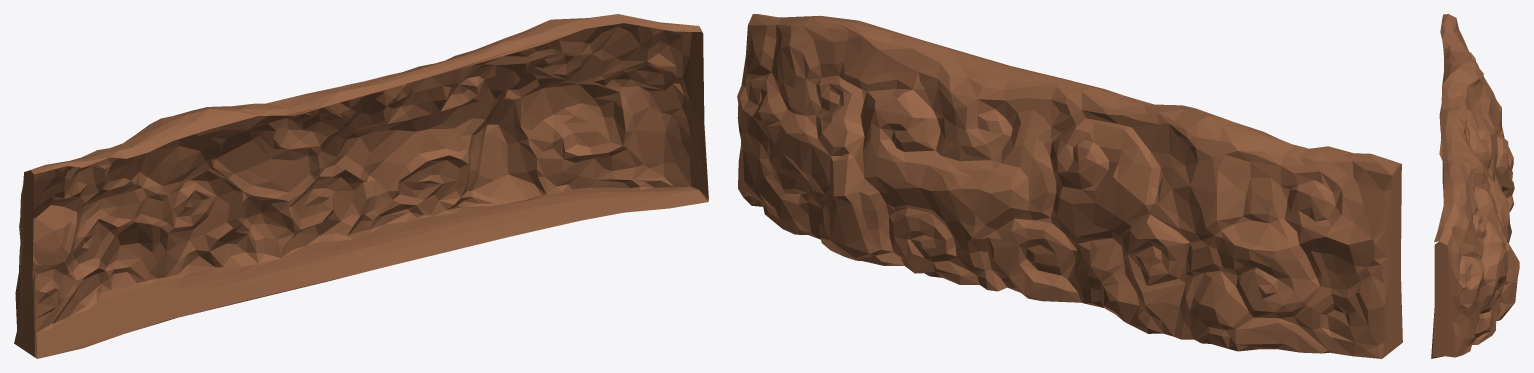
File: cliff_01.fbx
3 views of the same model, side by side, from view 1: azimuth 30°, elevation 25°; view 2: azimuth 150°, elevation 25°; view 3: azimuth 270°, elevation 25° (orthographic). The views are drawn at different scales.
Visible parts, largest first — view 1: LowPolyCliff1:Group43315; view 2: LowPolyCliff1:Group43315; view 3: LowPolyCliff1:Group43315.
Part boxes in pixels (<box>): LowPolyCliff1:Group43315: <box>14,14,708,358</box>; LowPolyCliff1:Group43315: <box>737,14,1402,358</box>; LowPolyCliff1:Group43315: <box>1431,14,1519,358</box>.
Bounding box in the file's own units: 11123 × 3226 × 1889.
